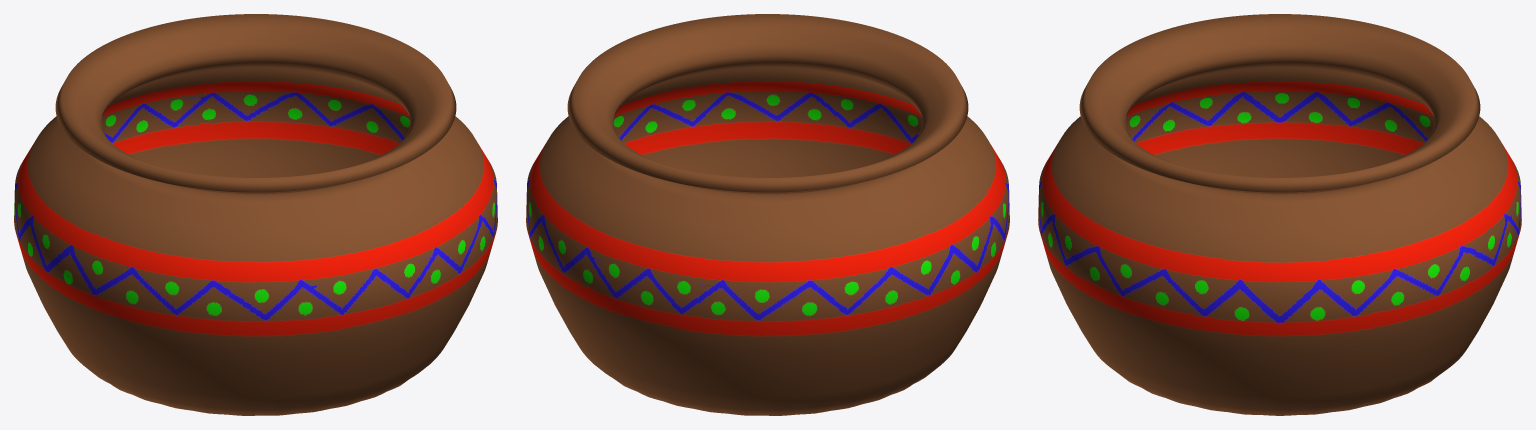
The model's file is Pot.fbx.
3 views of the same model, side by side, from view 1: azimuth 30°, elevation 25°; view 2: azimuth 150°, elevation 25°; view 3: azimuth 270°, elevation 25° (orthographic).
Parts seen in each view (by area): view 1: Circle; view 2: Circle; view 3: Circle.
Part boxes in pixels (x1,y1,x2,y2): Circle: (14, 14, 497, 415); Circle: (526, 14, 1009, 415); Circle: (1038, 14, 1521, 415).
Bounding box in the file's own units: 272 × 154 × 272.
